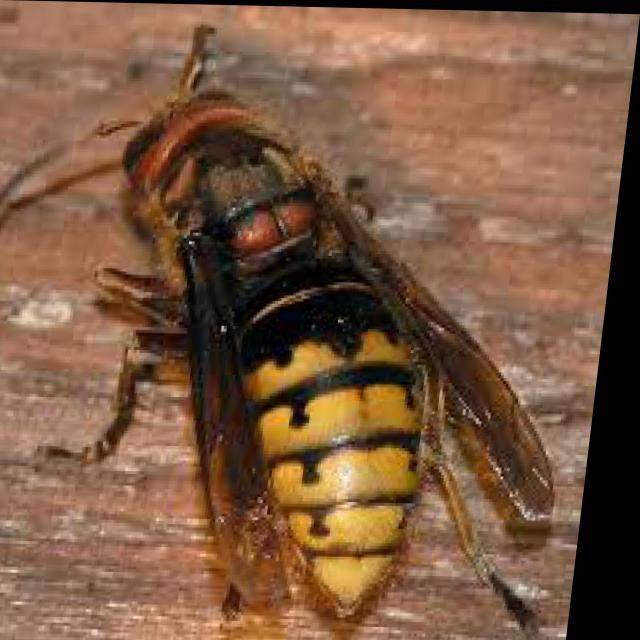Vespa Crabro: (0, 20, 632, 634)
